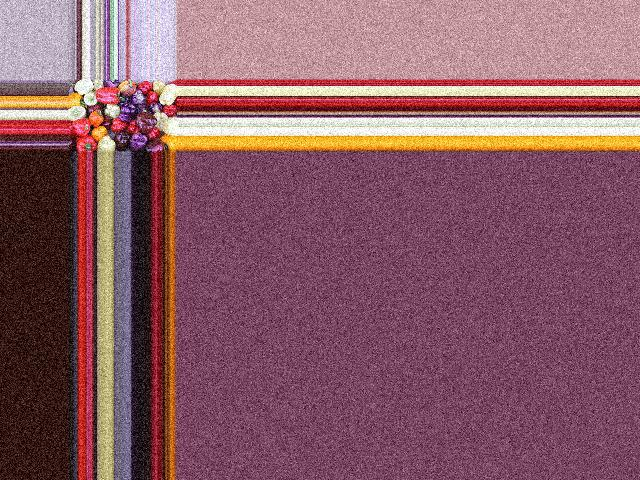bell_pepper: (68, 107, 88, 120)
